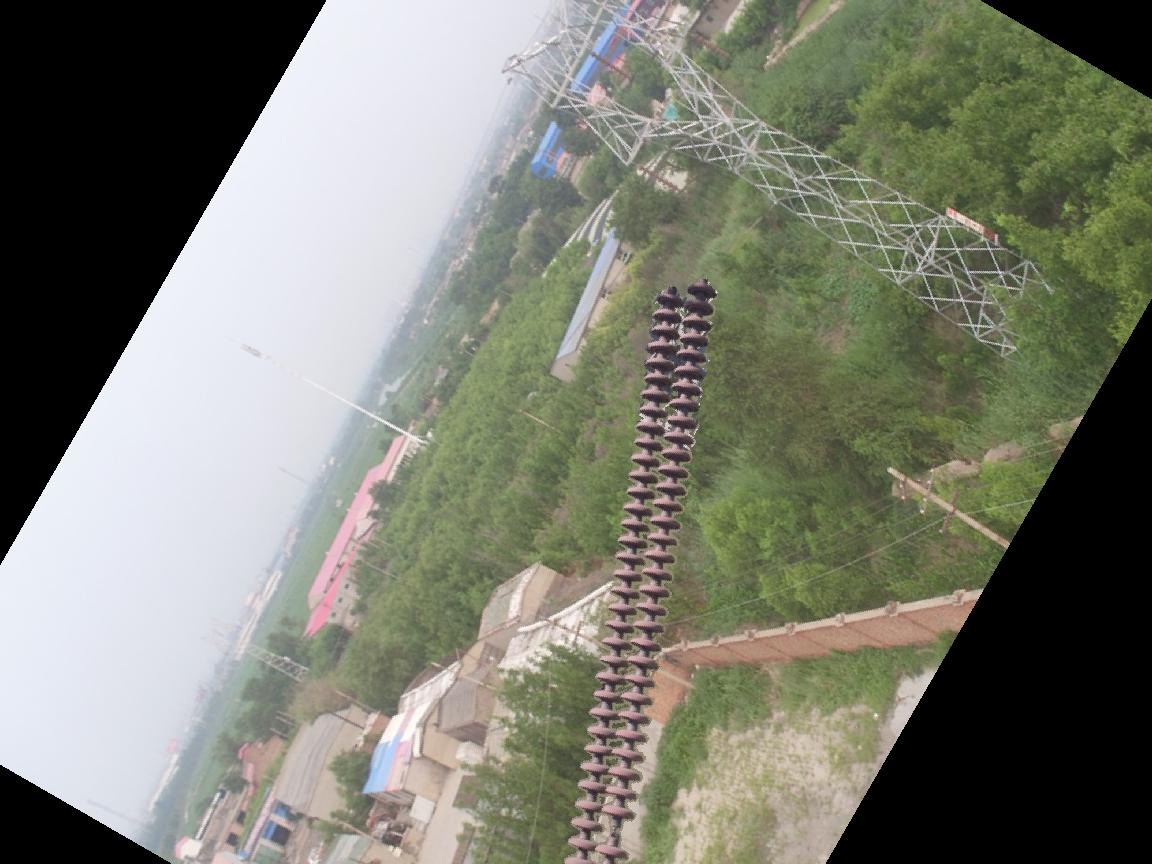insulator: (558, 280, 718, 864)
insulator_stringdrop: (593, 800, 640, 860)
